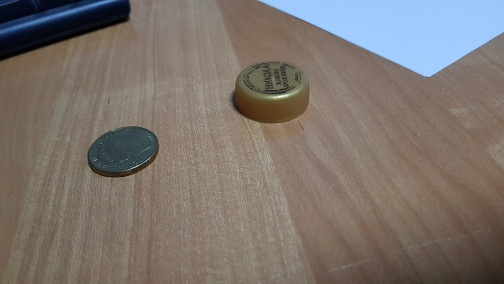coin: (86, 125, 160, 179)
